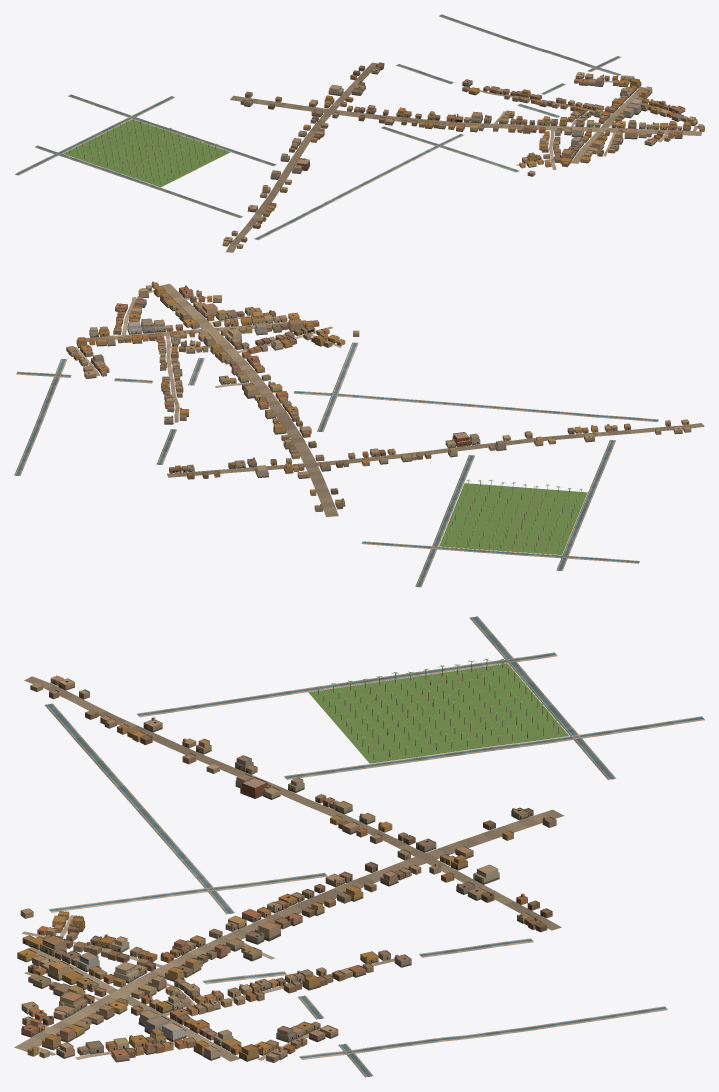
Rendered from uruk_quarter_06.glb.
3 renders of one model, top to bottom at view 1: azimuth 30°, elevation 25°; view 2: azimuth 150°, elevation 25°; view 3: azimuth 270°, elevation 25°, orthographic. The views are drawn at different scales.
Parts seen in each view (by area): view 1: uruk_quarter_06; view 2: uruk_quarter_06; view 3: uruk_quarter_06.
Part boxes in pixels (bbox=[...]): uruk_quarter_06: bbox=[15, 14, 704, 252]; uruk_quarter_06: bbox=[14, 281, 704, 587]; uruk_quarter_06: bbox=[14, 616, 704, 1077].
Bounding box in the file's own units: 829 × 19.52 × 522.
19 materials, 5 textured.
